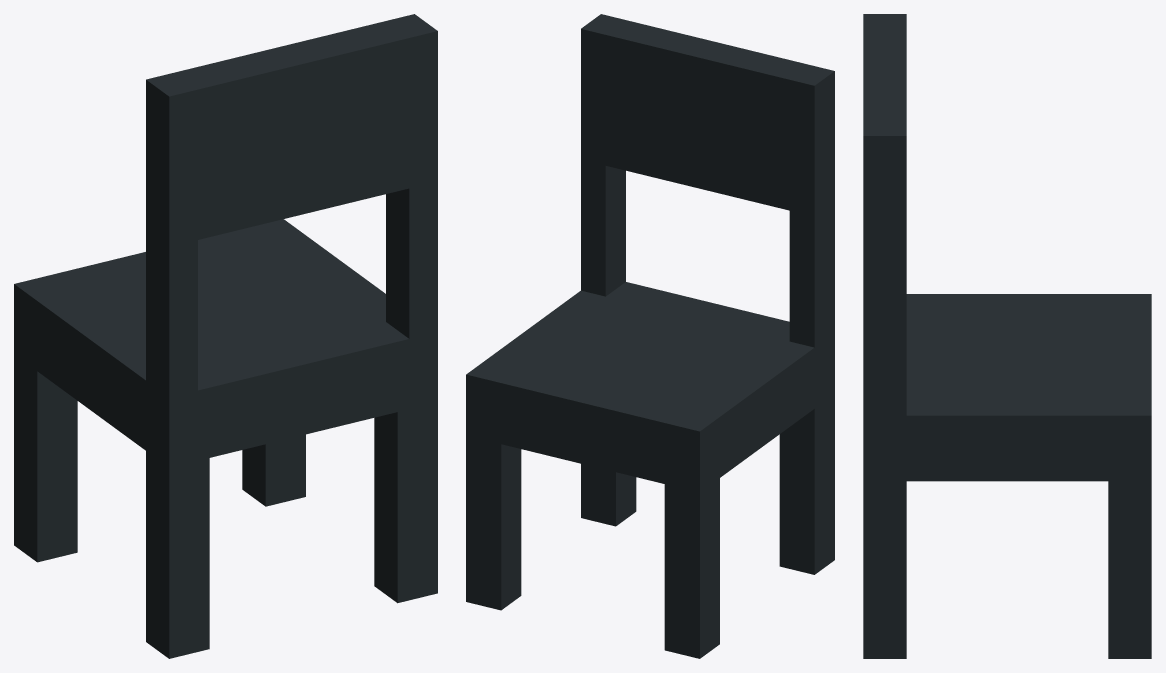
The model's file is chair2.fbx.
The picture shows the model from 3 angles, left to right: view 1: azimuth 30°, elevation 25°; view 2: azimuth 150°, elevation 25°; view 3: azimuth 270°, elevation 25°; orthographic projection. The views are drawn at different scales.
Parts seen in each view (by area): view 1: Cube; view 2: Cube; view 3: Cube.
Part boxes in pixels (x1,y1,x2,y2): Cube: (14,14,437,658); Cube: (466,14,834,658); Cube: (863,14,1151,658).
Bounding box in the file's own units: 200 × 400 × 200.
